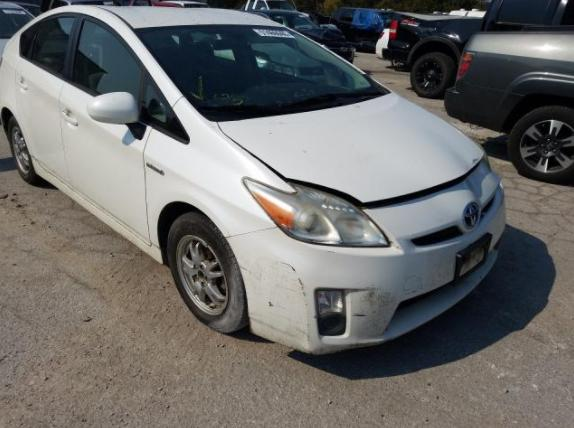Back-door: (15, 14, 82, 189)
Back-wheel: (7, 119, 44, 186)
Back-window: (32, 18, 73, 77), (23, 27, 37, 51)
Fender: (143, 97, 294, 249)
Front-bumper: (227, 162, 505, 355)
Front-door: (58, 14, 152, 245)
Front-wheel: (168, 213, 249, 334)
Front-window: (73, 22, 140, 95), (143, 74, 188, 142)
Headlight: (242, 177, 389, 248)
Hood: (217, 93, 484, 203)
Mirror: (88, 93, 138, 125)
Quarter-panel: (1, 35, 21, 129)
Rocker-panel: (34, 161, 162, 265)
Roof: (88, 5, 282, 29)
Windshield: (135, 24, 388, 122)
